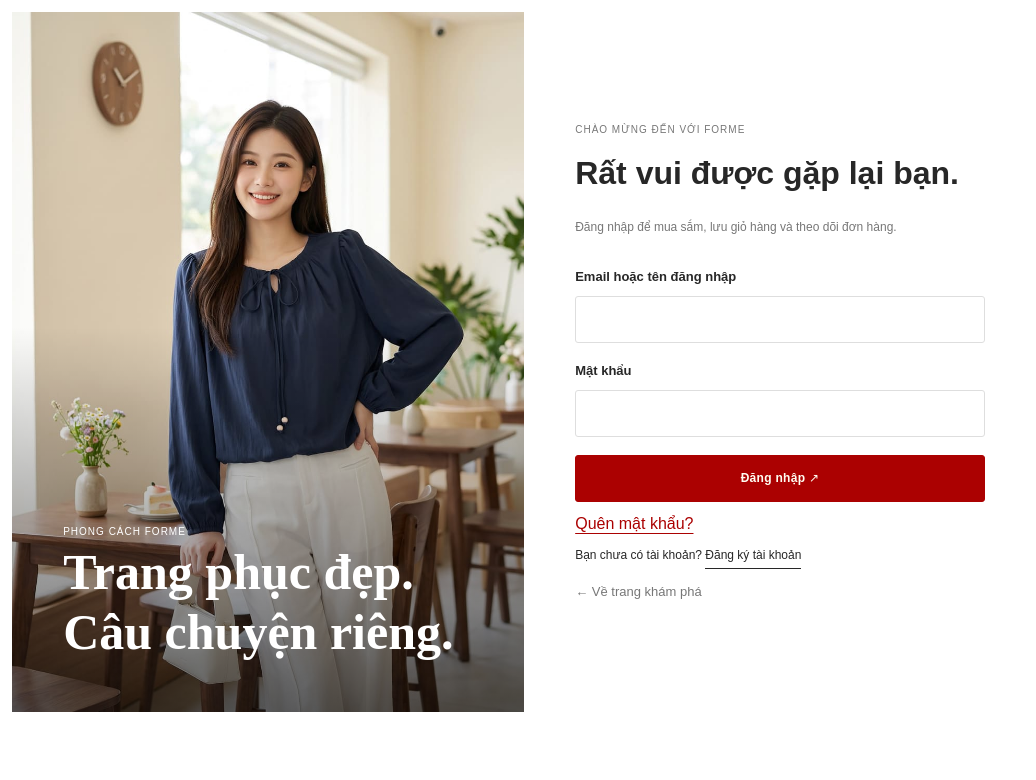
submits login credentials and shows the server error
In the field labelled "Email hoặc tên đăng nhập": (780, 320) x1=575 y1=296 x2=985 y2=343, type "customer@example.com"
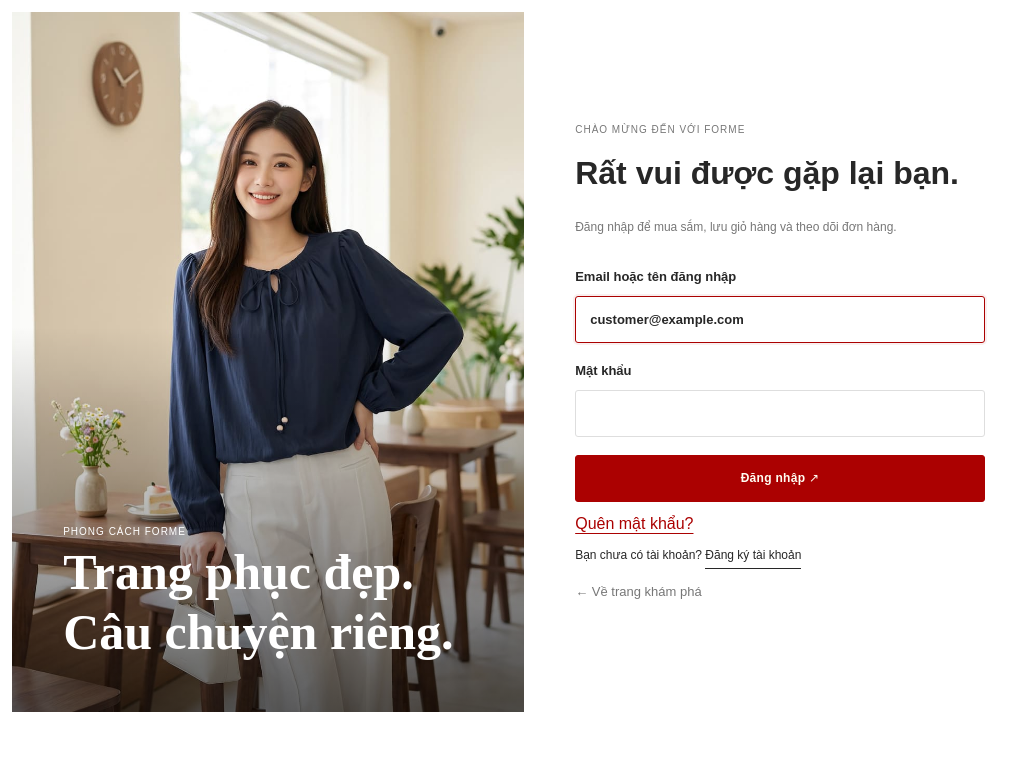
In the password field labelled "Mật khẩu": (780, 414) x1=575 y1=390 x2=985 y2=437, type "WrongPassword123"
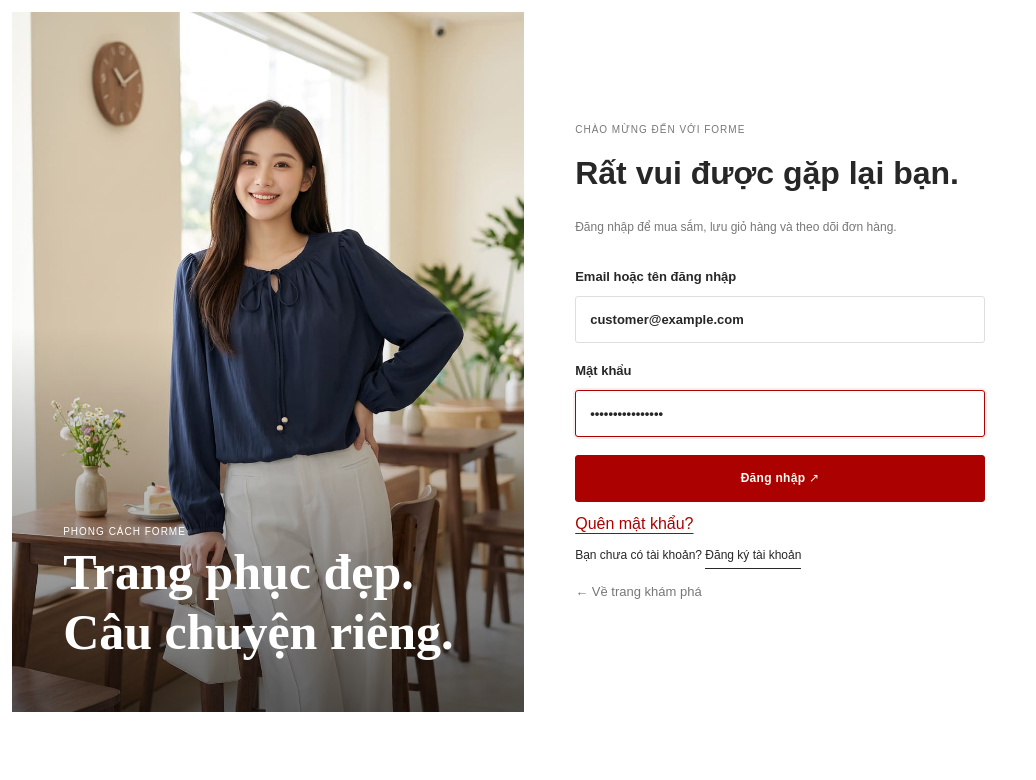
Click the button "Đăng nhập ↗": click(780, 479) x1=575 y1=455 x2=985 y2=502
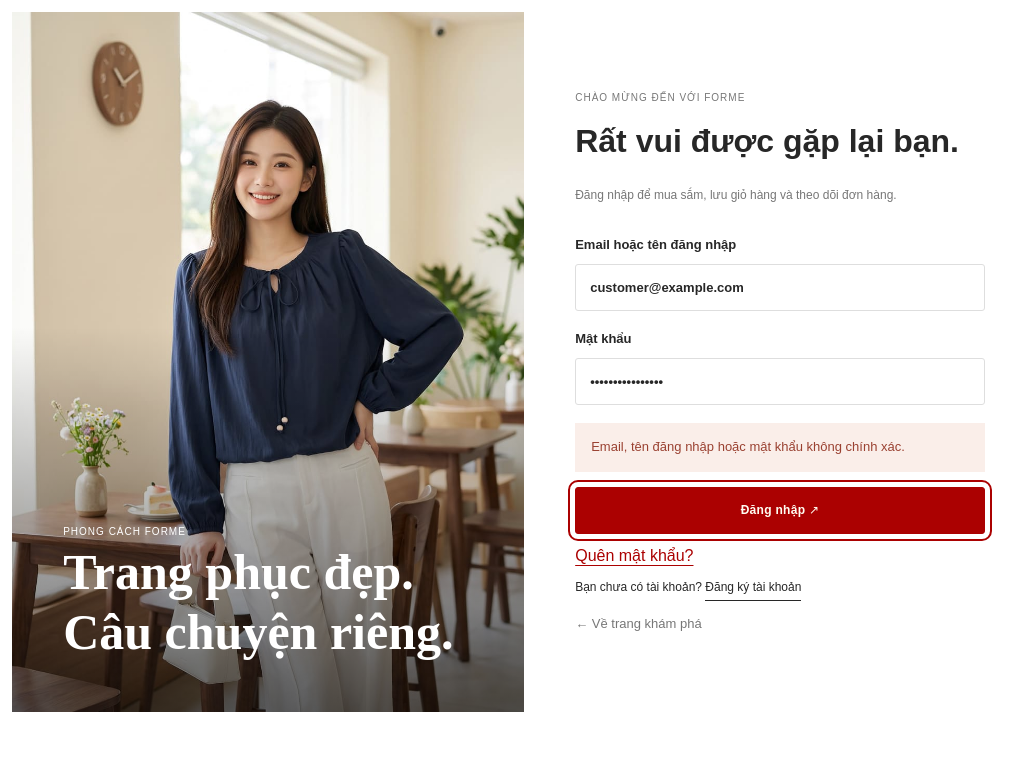
Result: the message reads "Email, tên đăng nhập hoặc mật khẩu không chính xác." at x1=591 y1=440 x2=905 y2=454
